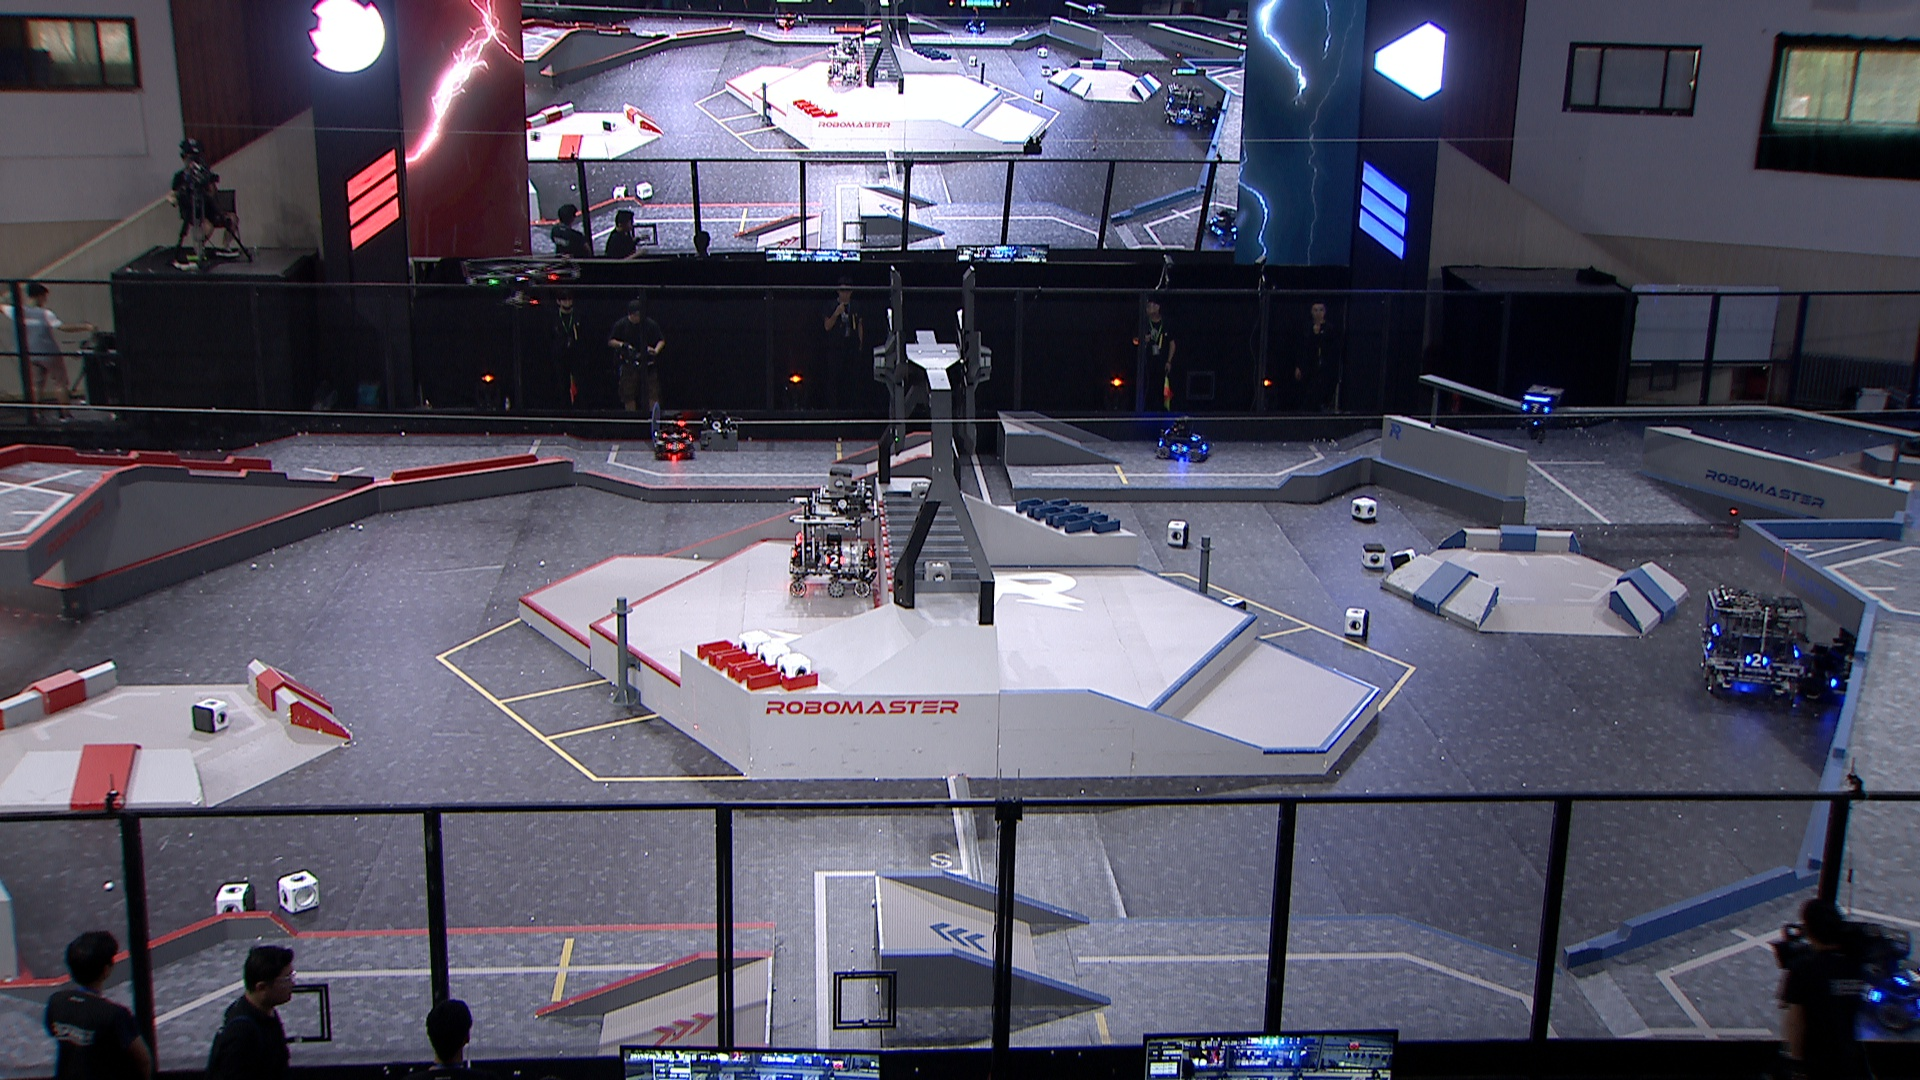armor: (1851, 982, 1882, 1005), (1894, 967, 1920, 986), (822, 553, 847, 570), (1743, 651, 1768, 669), (1520, 404, 1552, 415), (665, 440, 686, 454), (1168, 442, 1189, 455), (661, 433, 688, 439), (1189, 433, 1204, 442)
car: (1695, 585, 1809, 698), (789, 465, 880, 597), (1792, 626, 1902, 712), (1833, 926, 1920, 1031), (647, 407, 698, 462), (1154, 417, 1212, 463)
ignore: (1162, 82, 1207, 128), (825, 36, 865, 86), (1204, 206, 1240, 245), (1203, 100, 1228, 128)
watcher: (1513, 384, 1567, 447)
